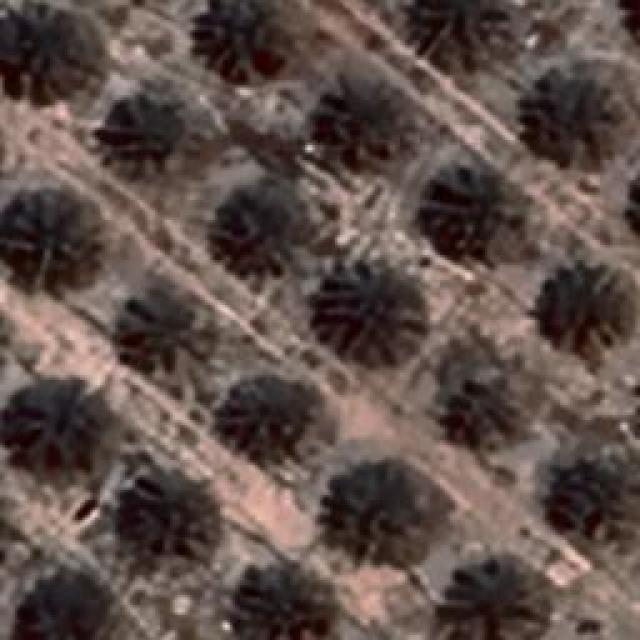PalmTree: (82, 55, 634, 205), (11, 85, 82, 612), (122, 466, 215, 589), (425, 162, 533, 260), (12, 379, 116, 479), (0, 191, 100, 291), (332, 470, 446, 555), (528, 67, 626, 165), (320, 268, 422, 362), (0, 8, 98, 88), (192, 0, 292, 78), (336, 79, 422, 169), (225, 380, 318, 460), (442, 356, 522, 446), (212, 182, 302, 260), (115, 300, 203, 378), (565, 454, 640, 542), (236, 565, 324, 640), (556, 272, 632, 356), (458, 565, 536, 640), (104, 108, 188, 168), (415, 0, 510, 48), (624, 160, 640, 248), (621, 0, 640, 49)
